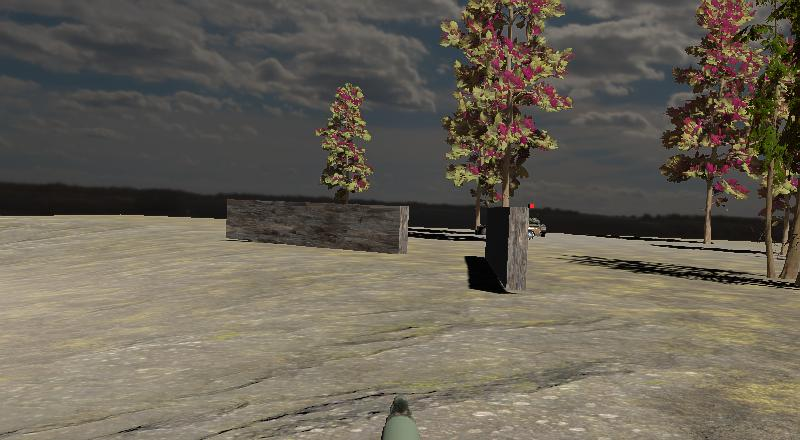car: (525, 217, 548, 240)
